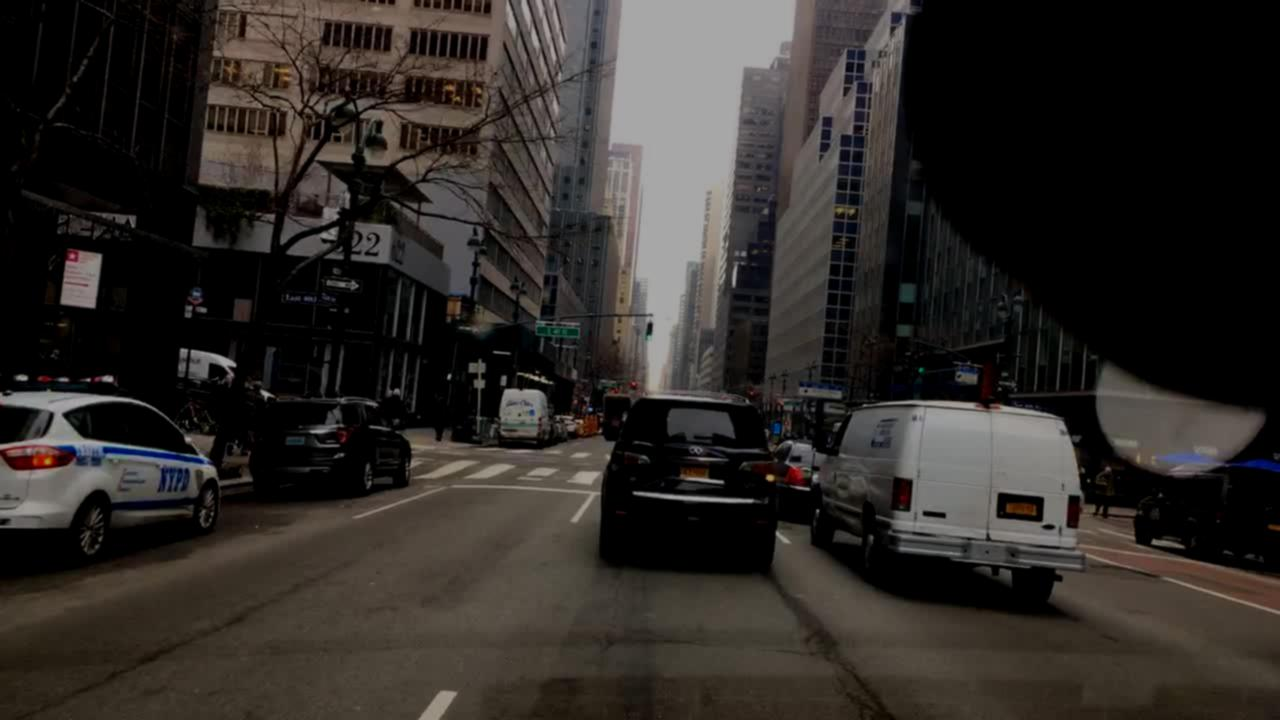Infiniti: (686, 444, 705, 457)
